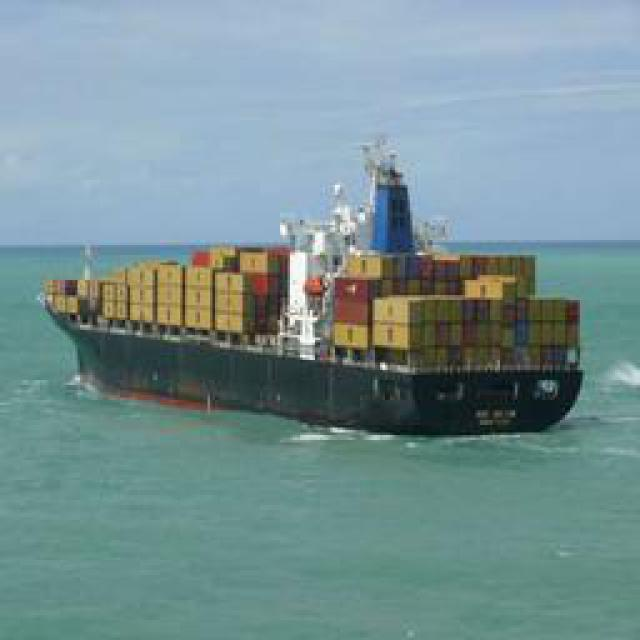Ship: (44, 132, 587, 435)
